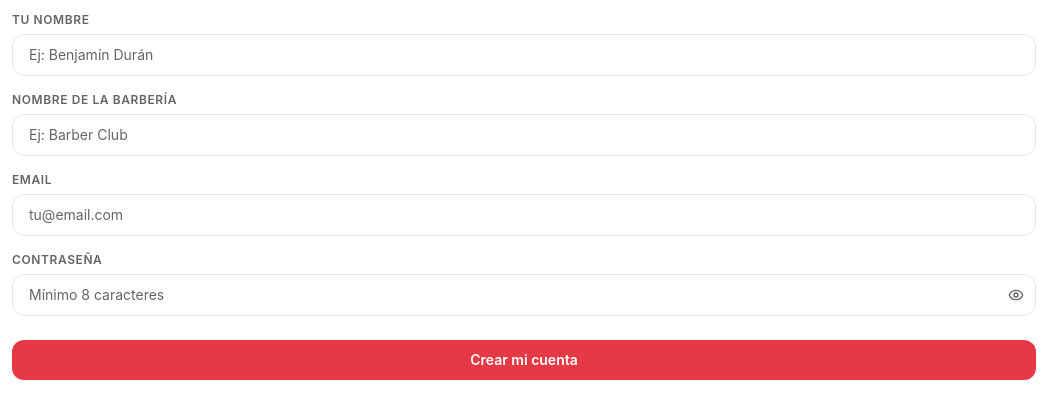
Scenario: RegisterForm › el preview de URL convierte acentos correctamente
Type "Pérez & Club" into the field with placeholder "Ej: Barber Club" at point(524, 135), box [12,114,1036,156]
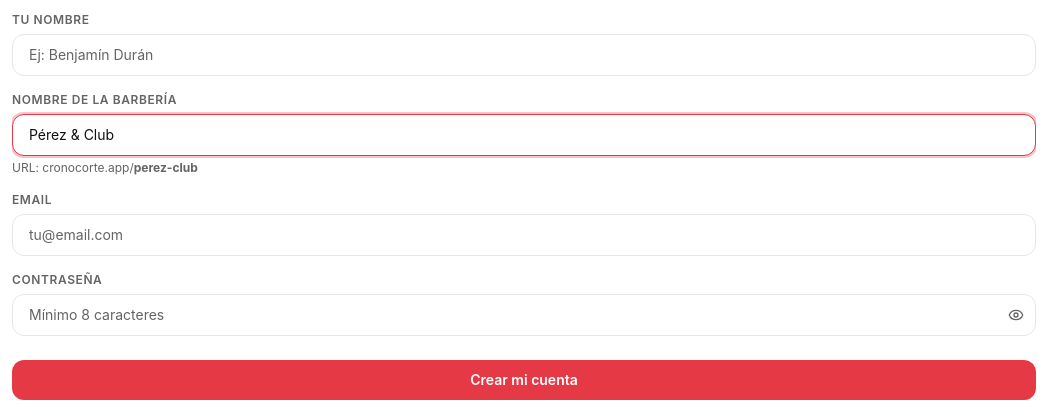
Expected: the text "perez-club" is shown, [134,160,198,175]
